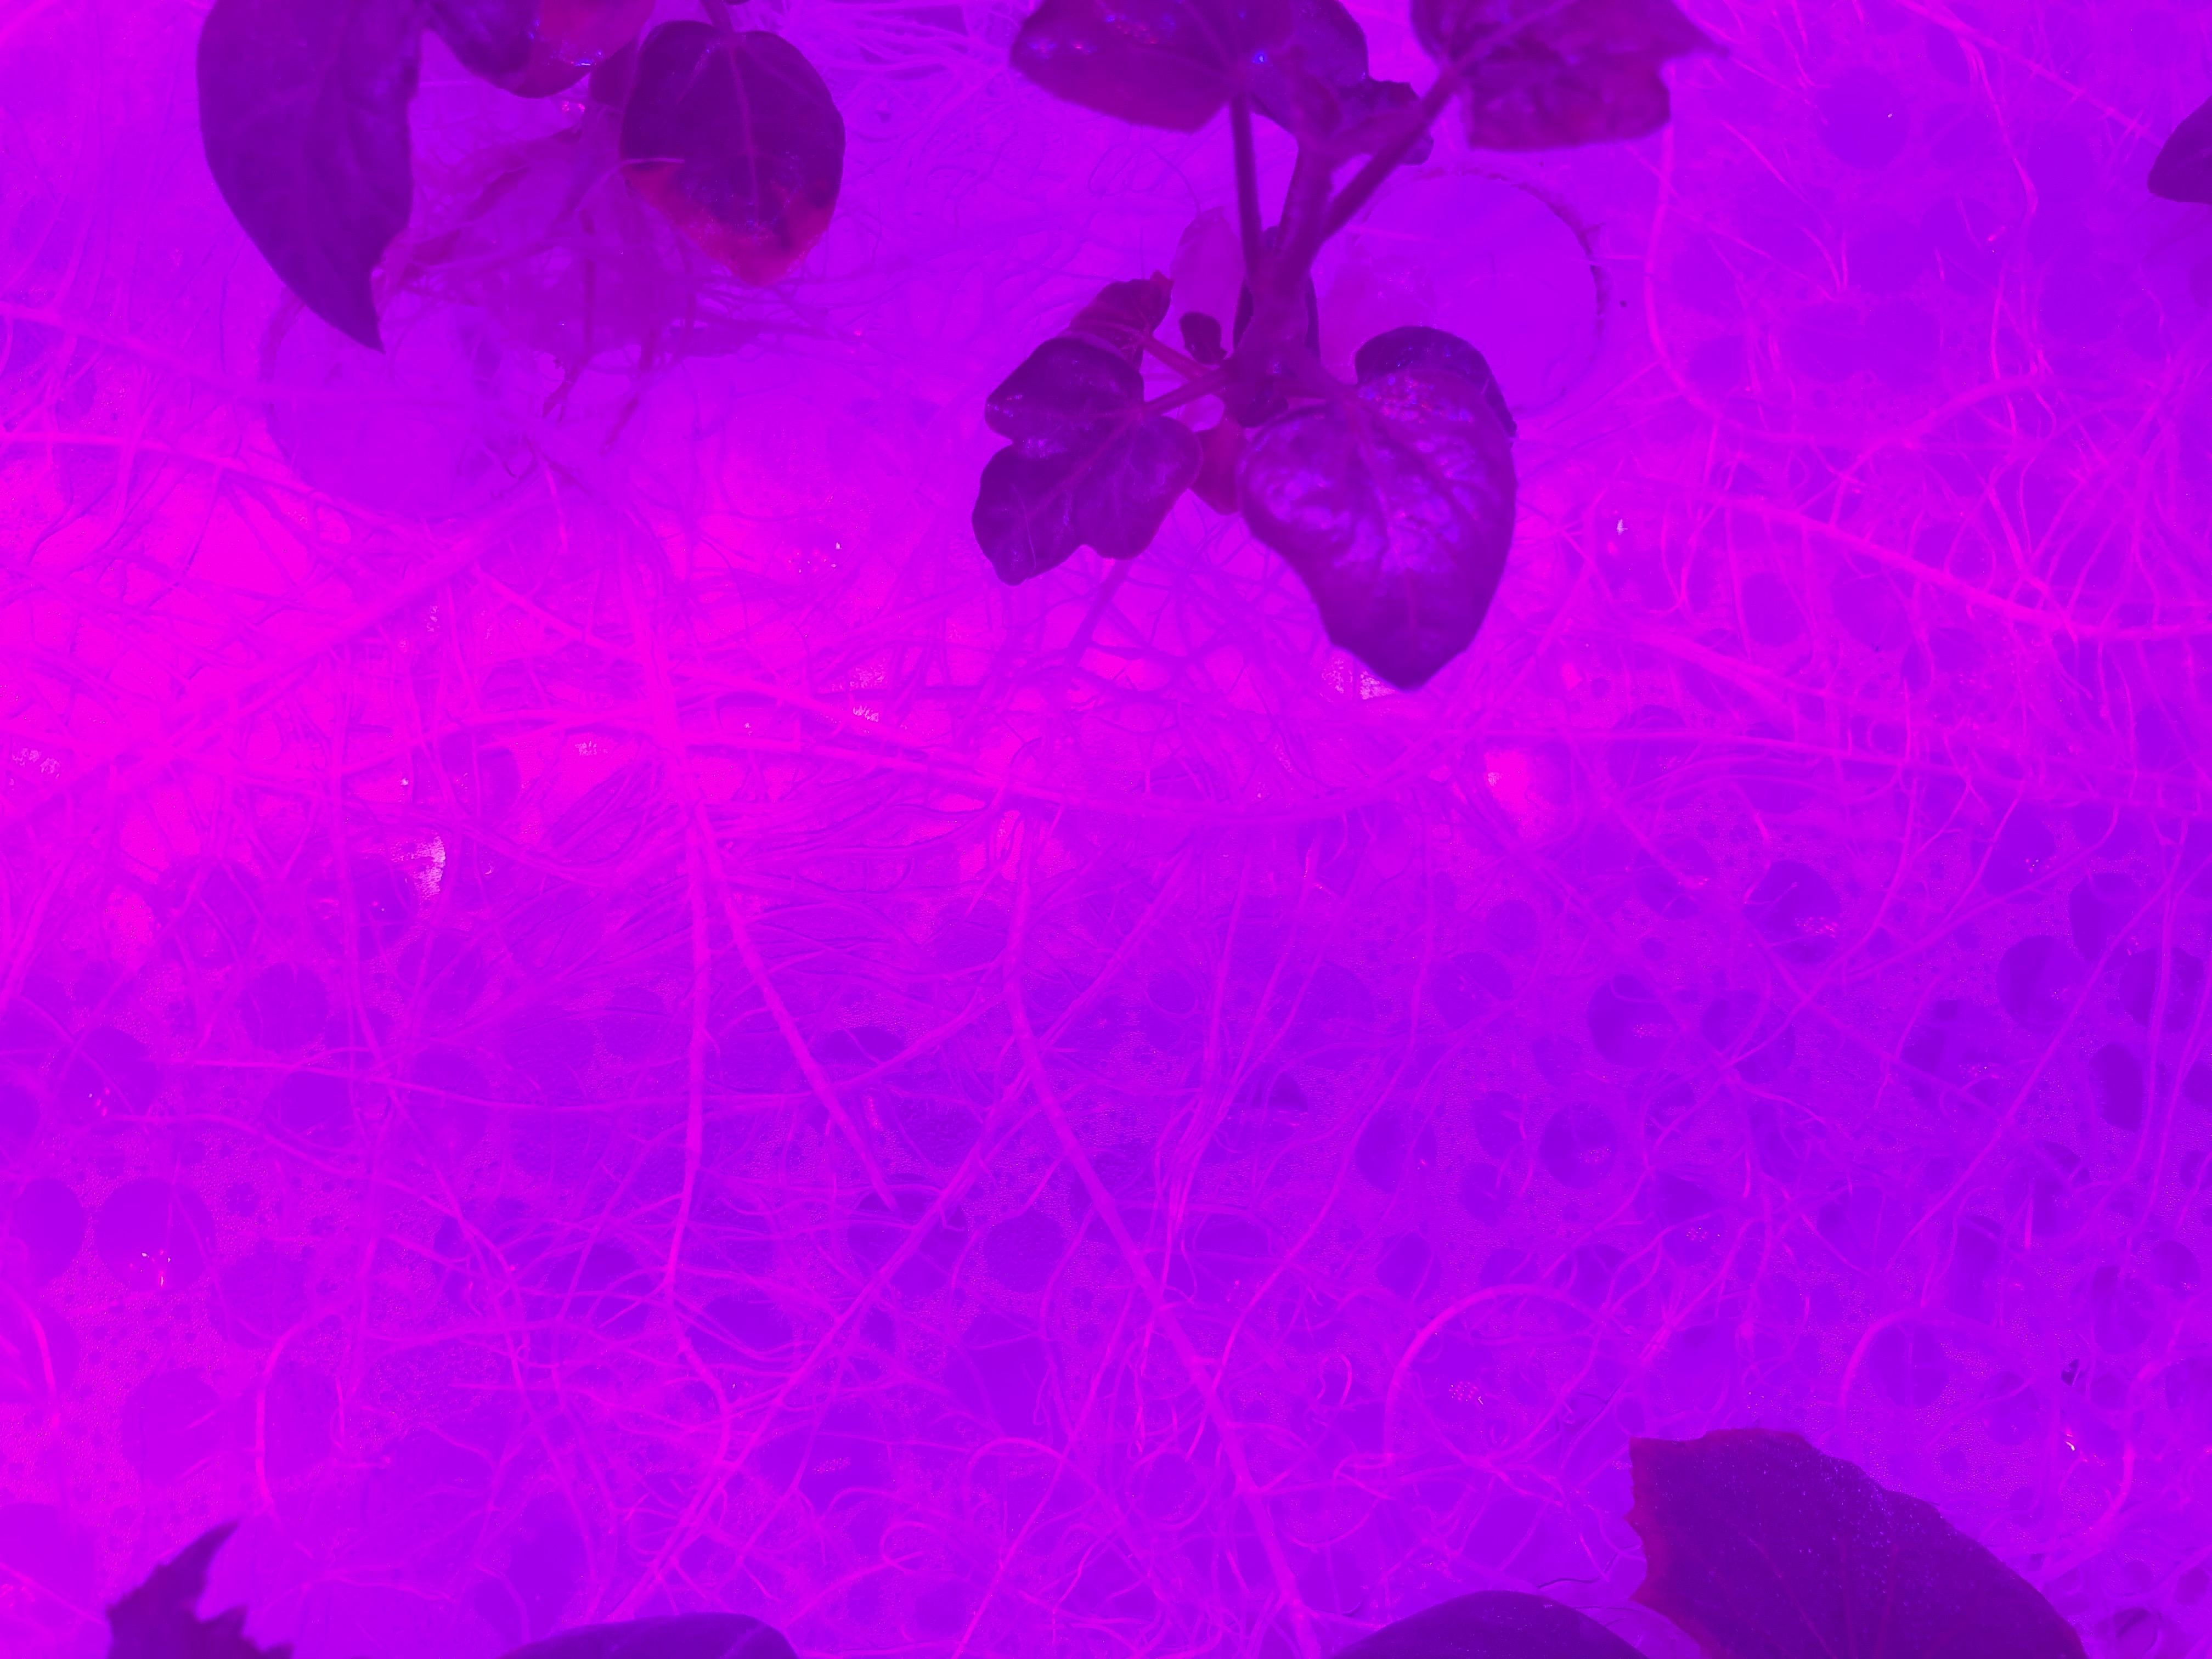lil_plant: (892, 0, 1754, 742)
